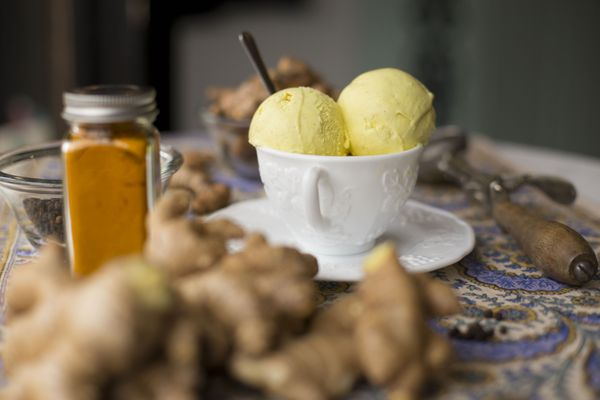pizza: (249, 111, 429, 257)
